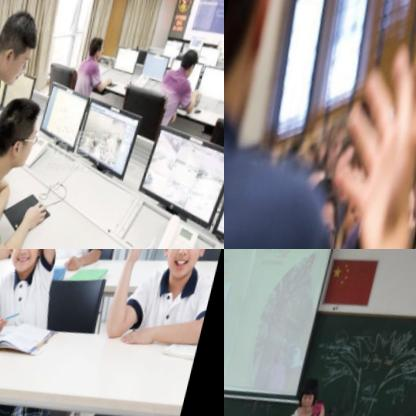head: (0, 88, 50, 172), (0, 5, 44, 92), (156, 249, 220, 290), (4, 249, 56, 277), (296, 378, 324, 416), (83, 33, 110, 67), (179, 49, 201, 82)
